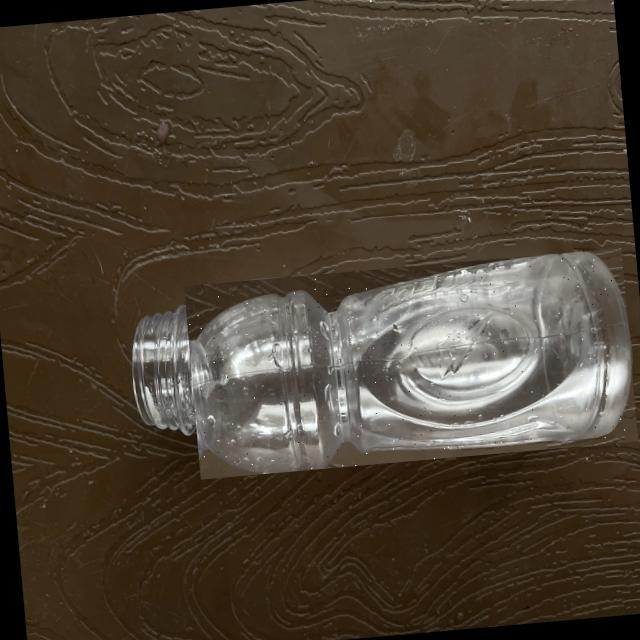PET_With_Liquid: (192, 253, 630, 471), (341, 262, 600, 456)
